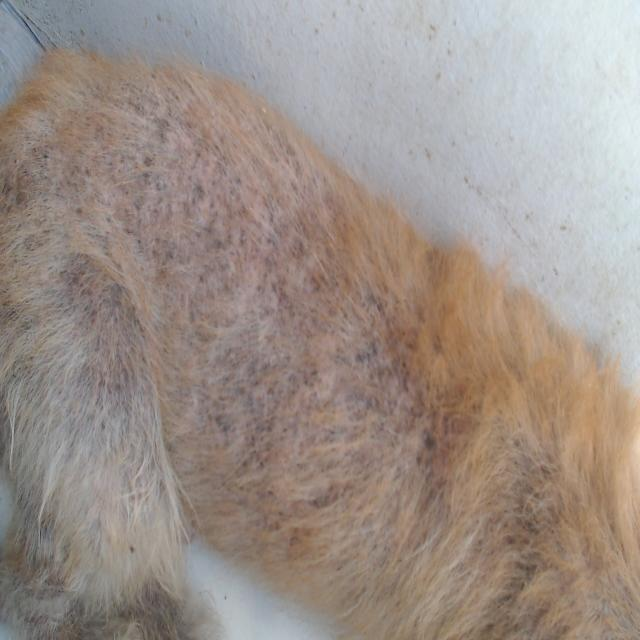demodicosis: (51, 95, 248, 382), (262, 267, 407, 509)
